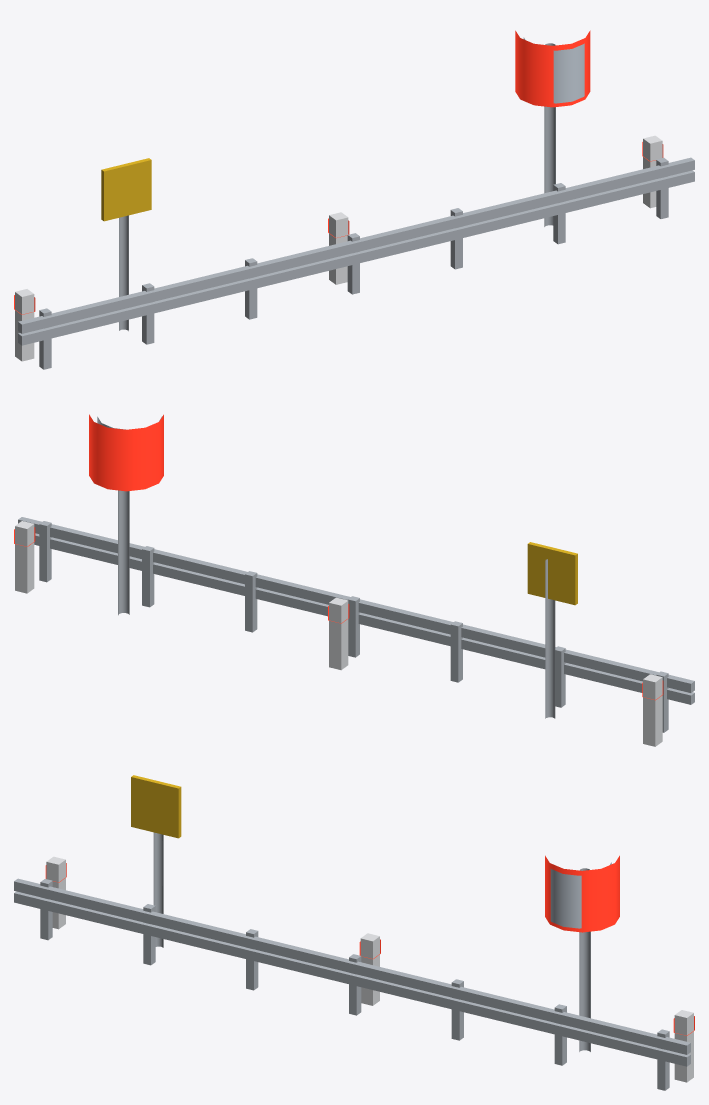
File: prop_11_mountain_pass_guardrail_and_convex_mirror.glb
The picture shows the model from 3 angles, top to bottom: view 1: azimuth 30°, elevation 25°; view 2: azimuth 150°, elevation 25°; view 3: azimuth 330°, elevation 25°; orthographic projection.
Visible parts, largest first — view 1: Galvanized_WBeam_Guardrail_And_Poles, Reflective_Stripes_And_Mirror_Visor, Pass_Curve_Warning_Sign, Road_Delineator_Posts, Convex_Safety_Mirror_Face; view 2: Galvanized_WBeam_Guardrail_And_Poles, Reflective_Stripes_And_Mirror_Visor, Road_Delineator_Posts, Pass_Curve_Warning_Sign; view 3: Galvanized_WBeam_Guardrail_And_Poles, Reflective_Stripes_And_Mirror_Visor, Pass_Curve_Warning_Sign, Road_Delineator_Posts, Convex_Safety_Mirror_Face.
Part boxes in pixels (<box>): Galvanized_WBeam_Guardrail_And_Poles: <box>18,43,694,369</box>; Reflective_Stripes_And_Mirror_Visor: <box>14,30,663,314</box>; Pass_Curve_Warning_Sign: <box>101,158,151,221</box>; Road_Delineator_Posts: <box>15,135,662,361</box>; Convex_Safety_Mirror_Face: <box>523,37,584,103</box>; Galvanized_WBeam_Guardrail_And_Poles: <box>18,490,694,732</box>; Reflective_Stripes_And_Mirror_Visor: <box>14,414,663,700</box>; Road_Delineator_Posts: <box>15,521,662,746</box>; Pass_Curve_Warning_Sign: <box>527,542,577,605</box>; Galvanized_WBeam_Guardrail_And_Poles: <box>14,832,690,1090</box>; Reflective_Stripes_And_Mirror_Visor: <box>45,855,694,1035</box>; Pass_Curve_Warning_Sign: <box>131,775,181,838</box>; Road_Delineator_Posts: <box>46,856,693,1082</box>; Convex_Safety_Mirror_Face: <box>550,862,611,928</box>.
Size of the model in its own units: 12 by 3.4 by 1.18.
